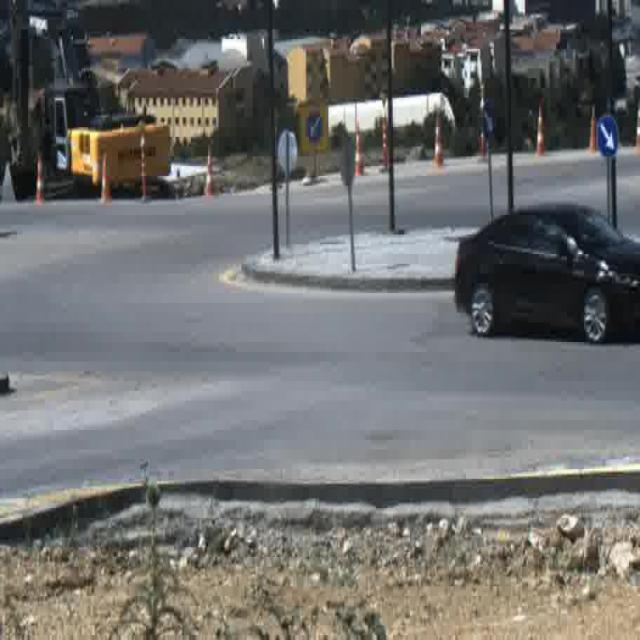Car: (456, 205, 640, 335)
